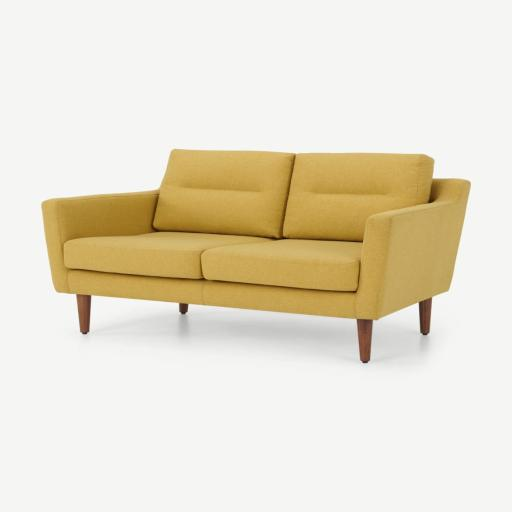back_cushion: (156, 149, 432, 241)
base: (67, 270, 356, 317)
left_arm: (355, 179, 470, 319)
legs: (357, 319, 372, 363), (77, 294, 91, 333), (420, 298, 431, 331), (180, 303, 187, 314)
right_arm: (42, 190, 158, 291)
seat_cushion: (64, 231, 362, 291)
two-seater: (0, 0, 511, 512)
